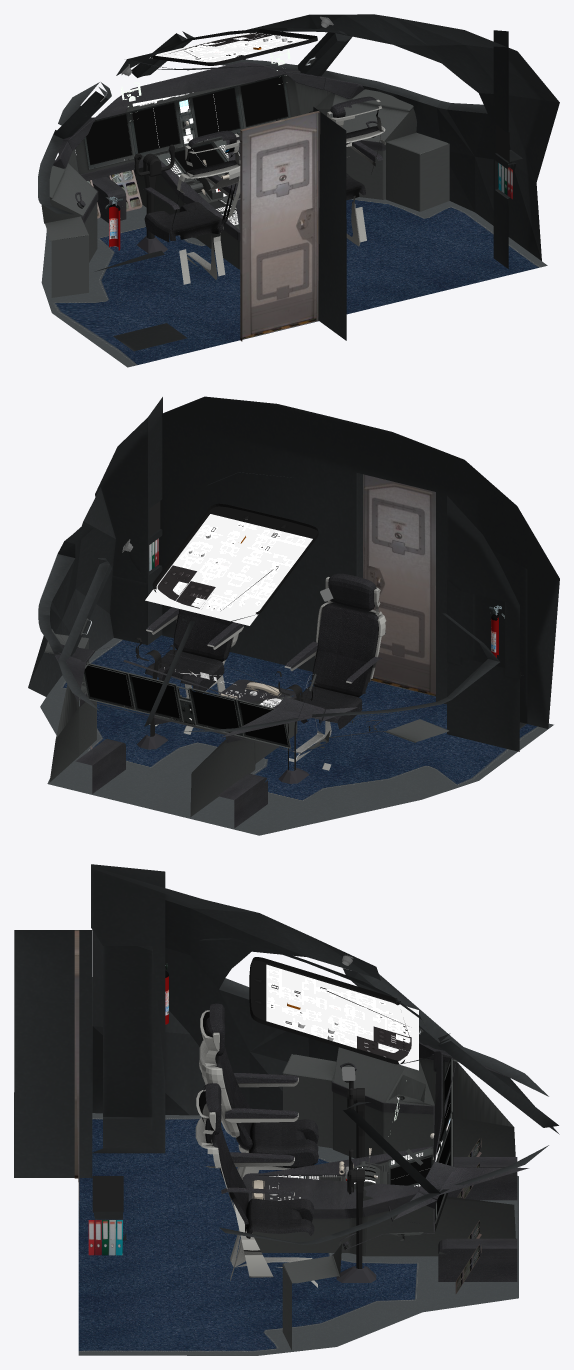
3 views of the same model, one above another, from view 1: azimuth 30°, elevation 25°; view 2: azimuth 150°, elevation 25°; view 3: azimuth 270°, elevation 25° (orthographic). The views are drawn at different scales.
Visible parts, largest first — view 1: B787; view 2: B787; view 3: B787.
Boxes of the visible parts, bbox=[...] form: B787: bbox=[38, 14, 559, 367]; B787: bbox=[28, 396, 559, 835]; B787: bbox=[14, 864, 559, 1355].
Bounding box in the file's own units: 3.69 × 2.05 × 3.28.
42 materials, 39 textured.
